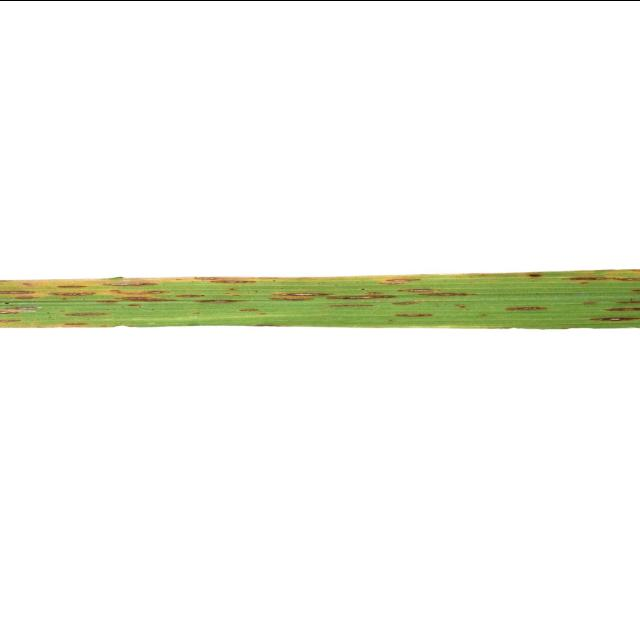Narrow brown: (0, 170, 640, 484)
